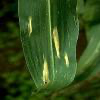Corn leaf blight: (15, 0, 81, 96)
